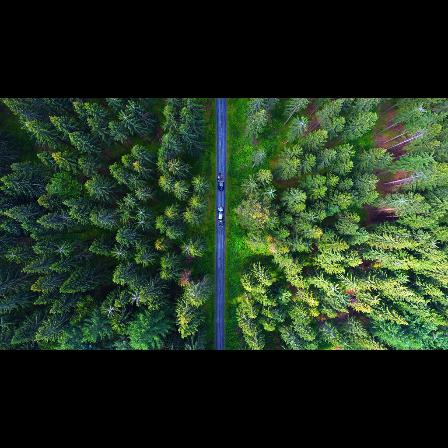Sick: (100, 300, 121, 322), (52, 242, 74, 259), (128, 289, 144, 309), (110, 243, 128, 260), (325, 282, 344, 297), (135, 215, 150, 233), (263, 184, 278, 202), (123, 193, 138, 209)
